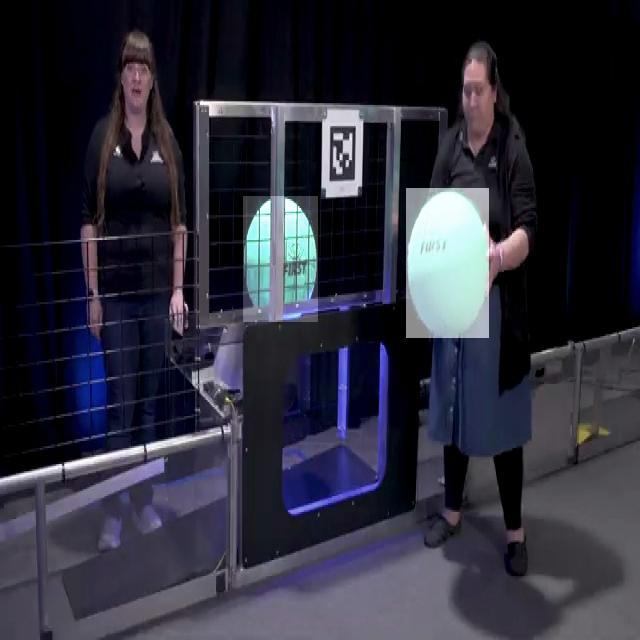Algae: (406, 188, 489, 338), (243, 196, 318, 322)
